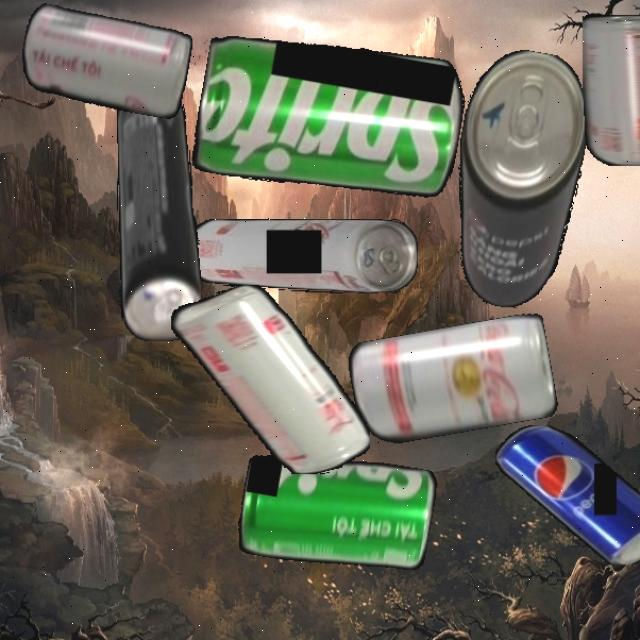debris: (189, 20, 471, 214), (434, 42, 600, 316), (170, 285, 370, 474), (234, 440, 439, 584), (346, 312, 559, 448), (116, 86, 201, 341), (16, 2, 194, 120), (495, 424, 640, 565), (185, 219, 418, 293), (581, 15, 640, 166)
